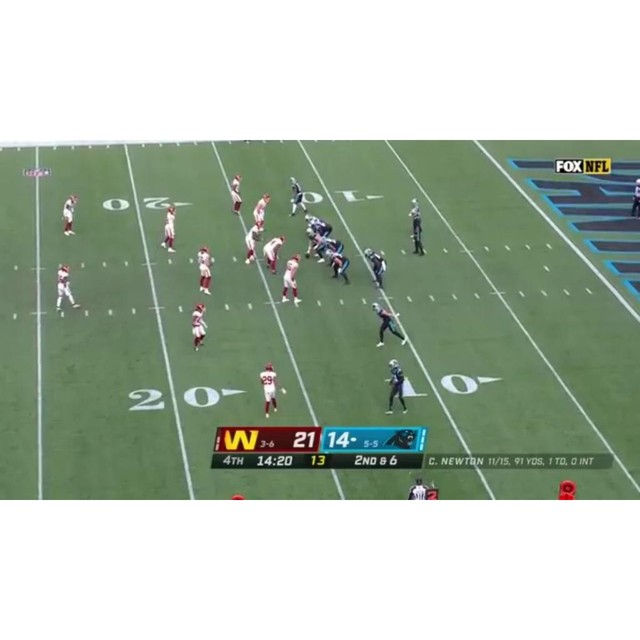american-football-player: (372, 302, 407, 347), (384, 359, 410, 414), (259, 362, 283, 418), (55, 263, 80, 316), (281, 253, 302, 306), (408, 199, 426, 257), (244, 219, 265, 265), (263, 235, 287, 275), (364, 248, 387, 289), (326, 250, 351, 286), (197, 244, 214, 295), (288, 176, 309, 217), (304, 227, 326, 262), (161, 204, 177, 252), (191, 303, 207, 351), (304, 215, 333, 239), (253, 193, 271, 230), (62, 194, 78, 235), (229, 173, 244, 214)
